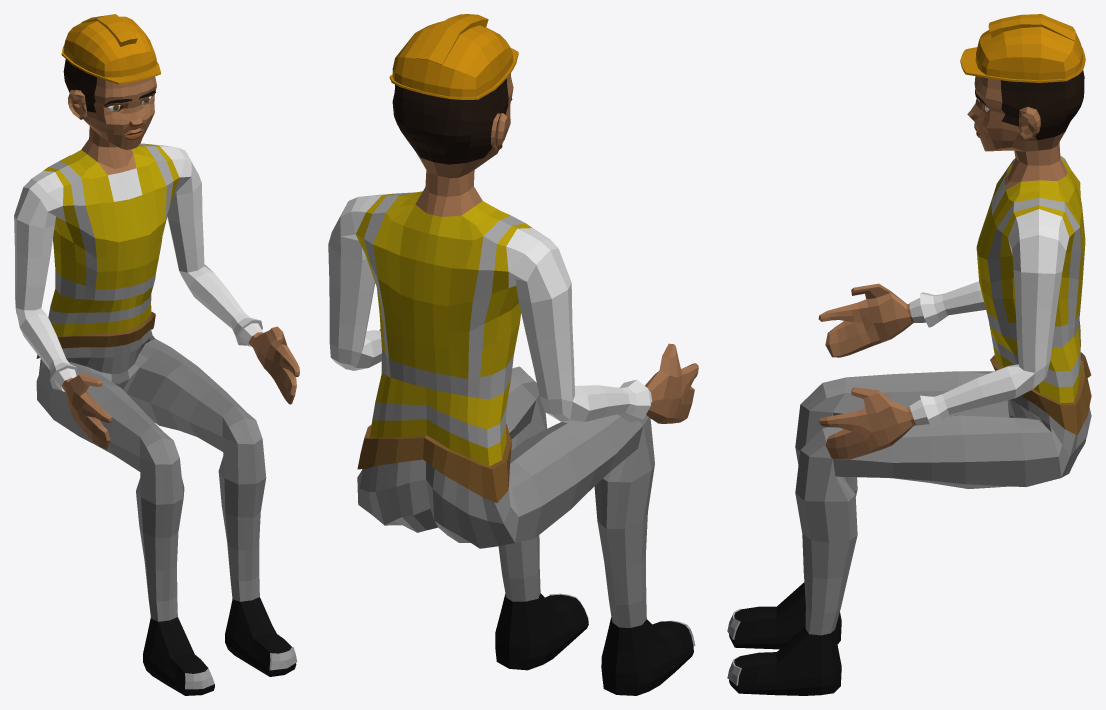
Rendered from Engineer_Sit.fbx.
The picture shows the model from 3 angles, left to right: view 1: azimuth 30°, elevation 25°; view 2: azimuth 150°, elevation 25°; view 3: azimuth 270°, elevation 25°; orthographic projection. The views are drawn at different scales.
Visible parts, largest first — view 1: Engineer_Sit; view 2: Engineer_Sit; view 3: Engineer_Sit.
Part boxes in pixels (bbox=[...]): Engineer_Sit: bbox=[14, 14, 299, 695]; Engineer_Sit: bbox=[328, 14, 698, 695]; Engineer_Sit: bbox=[727, 14, 1091, 695].
Bounding box in the file's own units: 0.3284 × 0.8388 × 0.4291.
